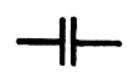Capacitor: (51, 10, 83, 68)
